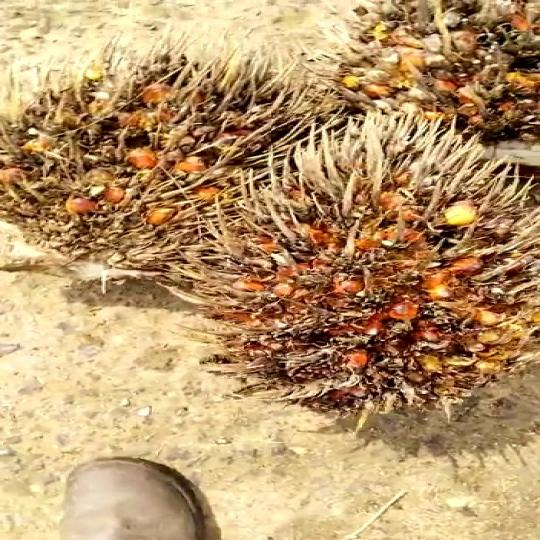terlalu masak: (191, 112, 540, 430), (0, 56, 357, 287)
